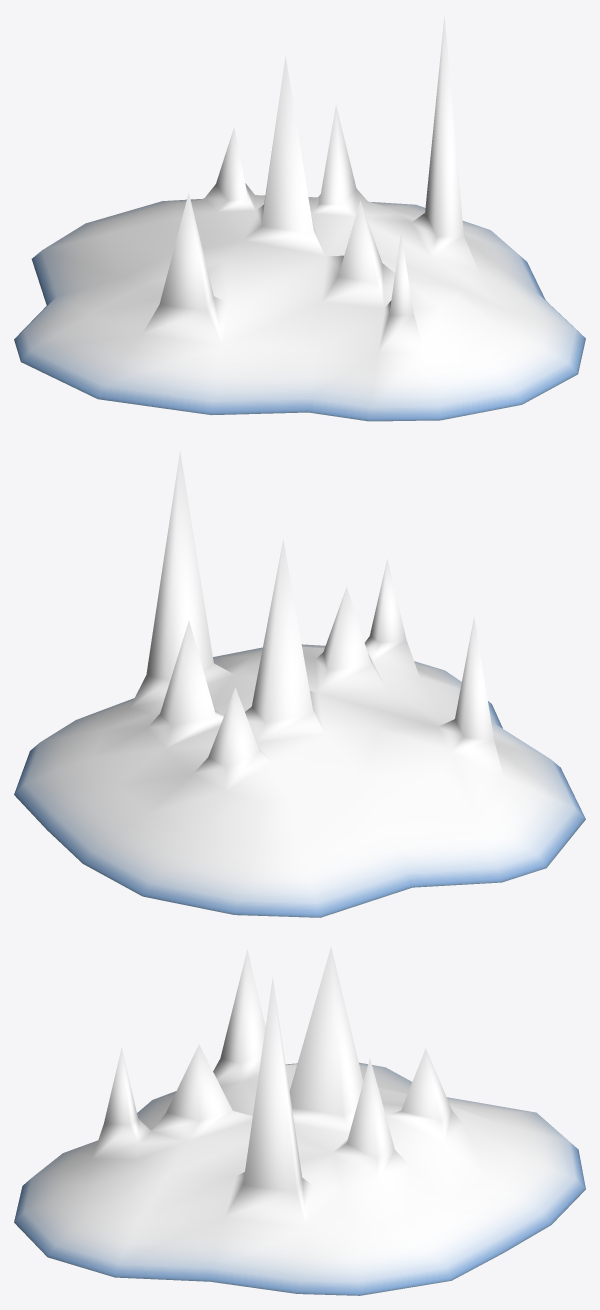
The model's file is deco_winter_snowPatchB_spikes.FBX.
3 renders of one model, top to bottom at view 1: azimuth 30°, elevation 25°; view 2: azimuth 150°, elevation 25°; view 3: azimuth 270°, elevation 25°, orthographic. The views are drawn at different scales.
Parts seen in each view (by area): view 1: deco_winter_snowPatchB_spikes; view 2: deco_winter_snowPatchB_spikes; view 3: deco_winter_snowPatchB_spikes.
Boxes of the visible parts, x1=… form: deco_winter_snowPatchB_spikes: x1=14, y1=15, x2=585, y2=421; deco_winter_snowPatchB_spikes: x1=14, y1=450, x2=585, y2=917; deco_winter_snowPatchB_spikes: x1=14, y1=946, x2=585, y2=1295.
Bounding box in the file's own units: 3.65 × 2 × 3.81.
Materials: 1 (1 with a texture image).
